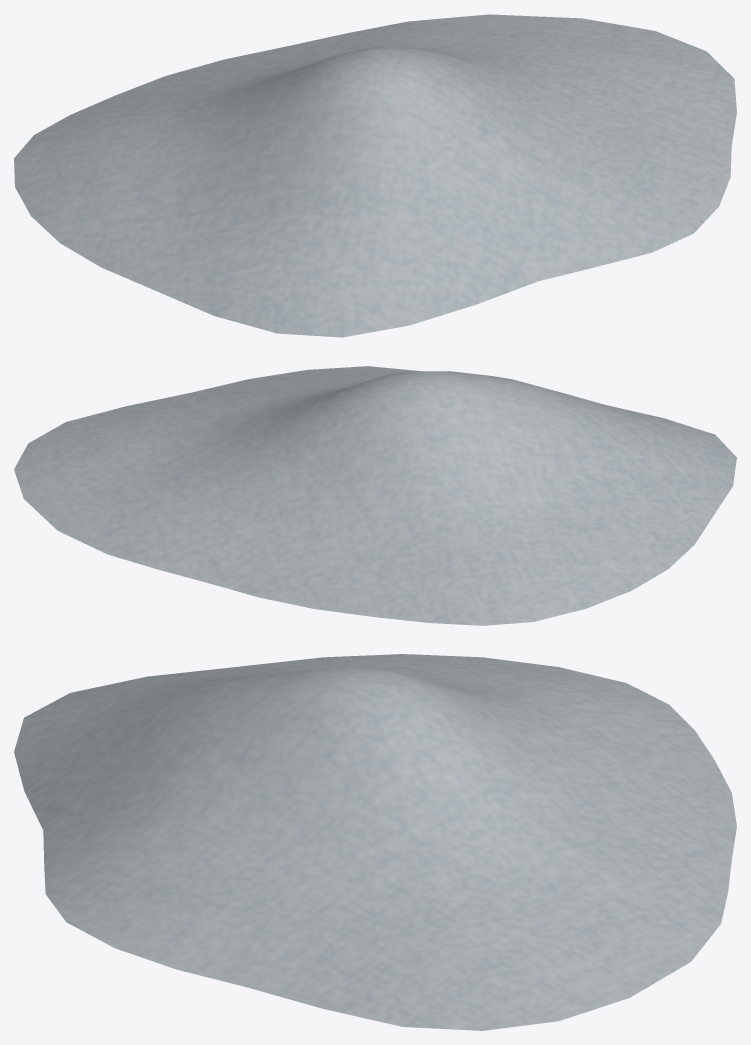
The model's file is sb_obj_outdoor051_SnowPuddleB.fbx.
The picture shows the model from 3 angles, top to bottom: view 1: azimuth 30°, elevation 25°; view 2: azimuth 150°, elevation 25°; view 3: azimuth 270°, elevation 25°; orthographic projection. The views are drawn at different scales.
Visible parts, largest first — view 1: sb_obj_outdoor051_SnowPuddleB; view 2: sb_obj_outdoor051_SnowPuddleB; view 3: sb_obj_outdoor051_SnowPuddleB.
Boxes of the visible parts, box(x1,y1,x2,y2) form: sb_obj_outdoor051_SnowPuddleB: box(14, 14, 736, 337); sb_obj_outdoor051_SnowPuddleB: box(14, 366, 736, 625); sb_obj_outdoor051_SnowPuddleB: box(14, 654, 736, 1030).
Bounding box in the file's own units: 1.85 × 0.3169 × 1.5.
1 material, 1 textured.
